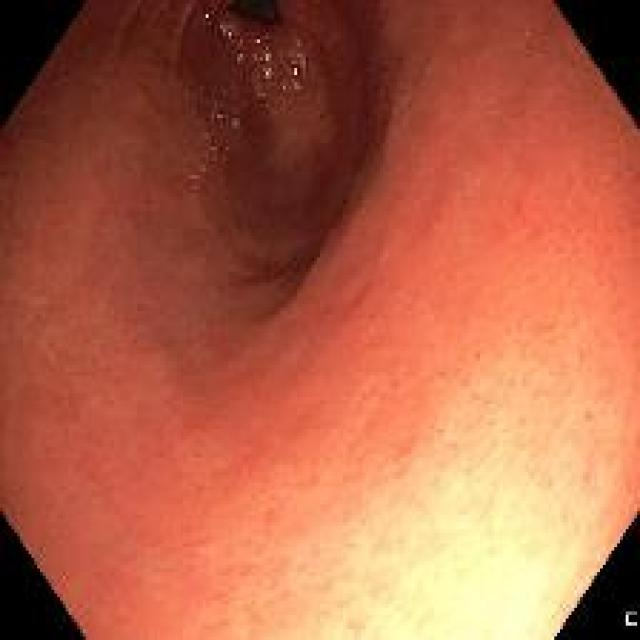contrast: (228, 1, 289, 31)
saturation: (269, 492, 597, 638)
specularity: (250, 37, 277, 103), (278, 44, 311, 91), (232, 31, 246, 65), (218, 21, 236, 40), (200, 7, 213, 22)
